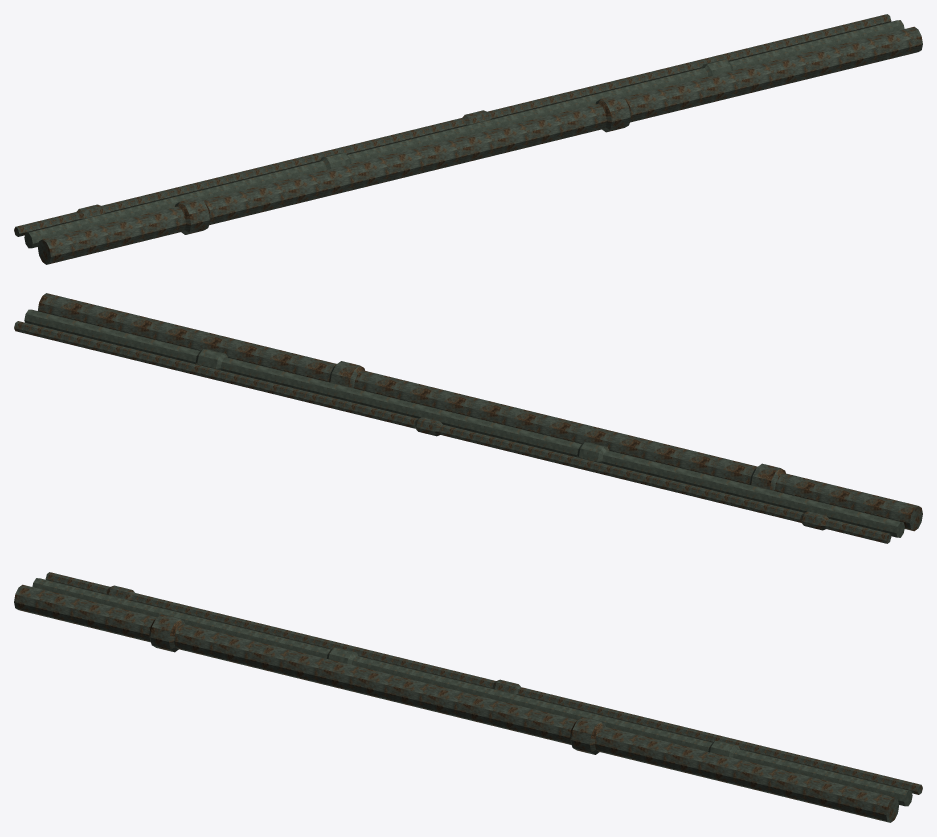
File: SM_PipeRun_4m.fbx
The picture shows the model from 3 angles, top to bottom: view 1: azimuth 30°, elevation 25°; view 2: azimuth 150°, elevation 25°; view 3: azimuth 330°, elevation 25°; orthographic projection.
Visible parts, largest first — view 1: SM_PipeRun_4m; view 2: SM_PipeRun_4m; view 3: SM_PipeRun_4m.
Boxes of the visible parts, x1,y1,x2,y2 form: SM_PipeRun_4m: (14,14,922,264); SM_PipeRun_4m: (14,293,922,543); SM_PipeRun_4m: (14,572,922,822).
Bounding box in the file's own units: 4 × 0.1293 × 0.318.
